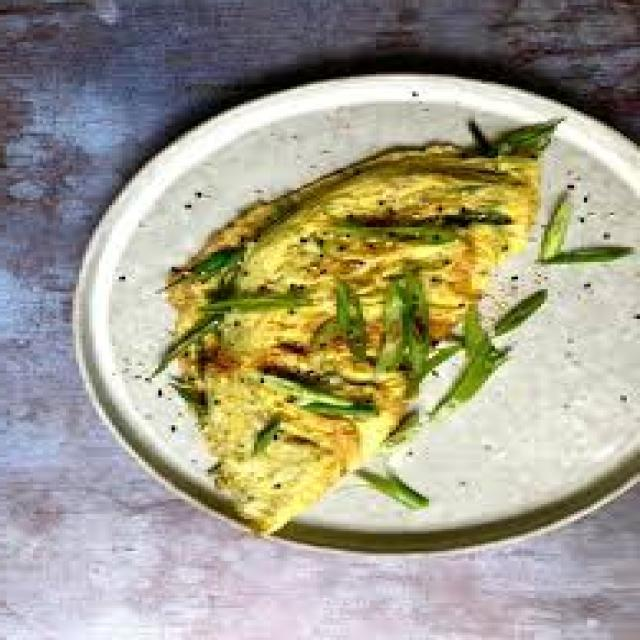telur_ayam_dadar: (158, 142, 548, 543)
